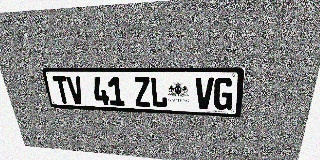1: (106, 77, 125, 106)
4: (91, 76, 110, 105)
G: (213, 77, 234, 110)
L: (150, 77, 168, 108)
T: (52, 76, 71, 104)
V: (195, 77, 214, 110), (66, 76, 85, 104)
Z: (133, 77, 151, 107)
